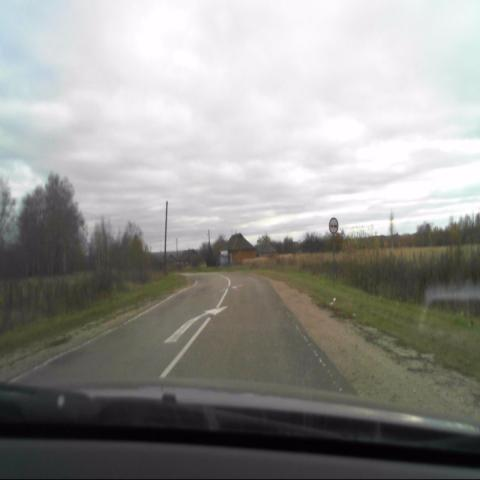3_20: (329, 216, 338, 234)
